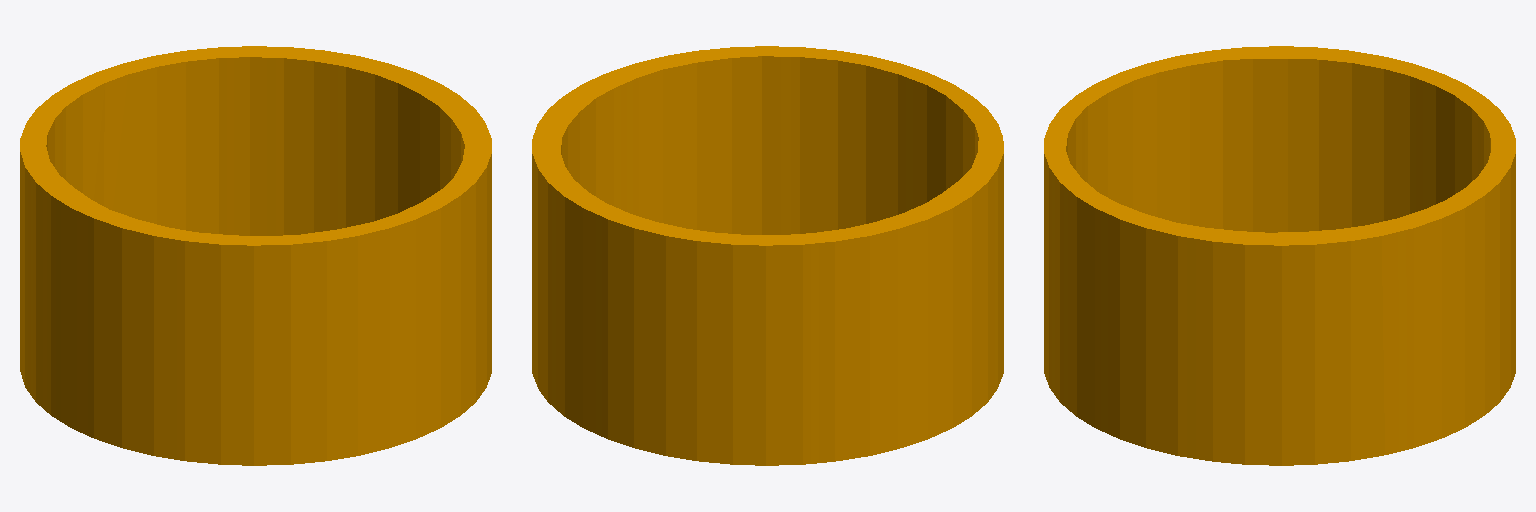
The robot description file, URDF, robot "00077_plug":
<?xml version="1.0"?>
<robot name="00077_plug">
	<link name="00077_plug">
		<visual>
			<geometry>
				<mesh filename="../mesh/00077/asset_plug.obj"/>
			</geometry>
		</visual>
		<collision>
			<geometry>
				<mesh filename="../mesh/00077/asset_plug.obj"/>
			</geometry>
			<sdf resolution="256"/>
		</collision>
	</link>
</robot>

--- Facts derived from the render (not from the file) ---
Views: 3 orthographic renders of the robot side by side, from view 1: azimuth 30°, elevation 25°; view 2: azimuth 150°, elevation 25°; view 3: azimuth 270°, elevation 25°.
Model 00077_plug with 1 links and 0 joints (none), rooted at 00077_plug, posed all joints at 0.
Visible links, largest first — view 1: 00077_plug; view 2: 00077_plug; view 3: 00077_plug.
Boxes of the visible links, box(x1,y1,x2,y2) form: 00077_plug: box(20, 46, 491, 465); 00077_plug: box(532, 46, 1003, 465); 00077_plug: box(1044, 46, 1515, 465).
Size in the robot's own frame: 0.0201 by 0.0201 by 0.0103 metres.
Meshes: 1 distinct files referenced, 1 mesh visuals loaded (1 OBJ).